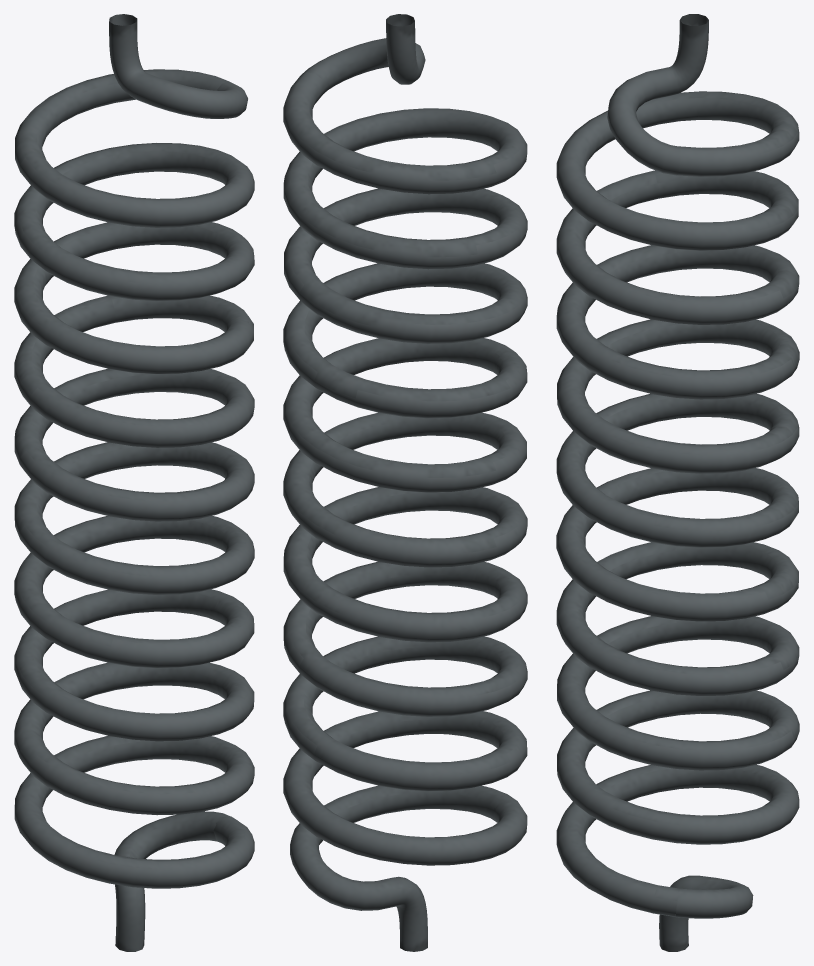
Rendered from 0_spring.obj.
3 views of the same model, side by side, from view 1: azimuth 30°, elevation 25°; view 2: azimuth 150°, elevation 25°; view 3: azimuth 270°, elevation 25° (orthographic).
Size of the model in its own units: 0.2001 by 0.8381 by 0.1989.
1 material, 1 textured.
